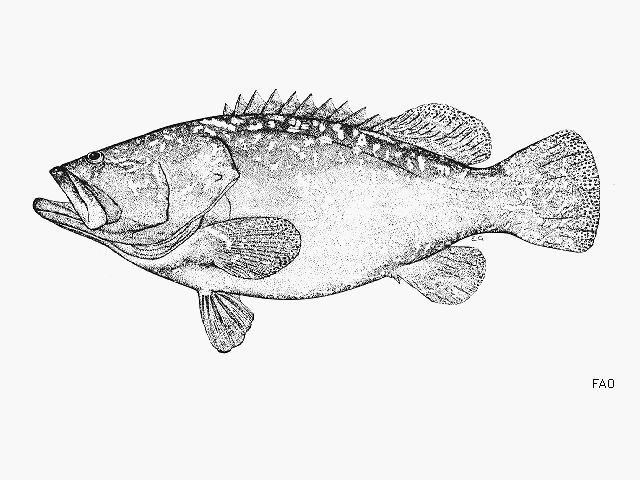fish: (33, 89, 602, 353)
